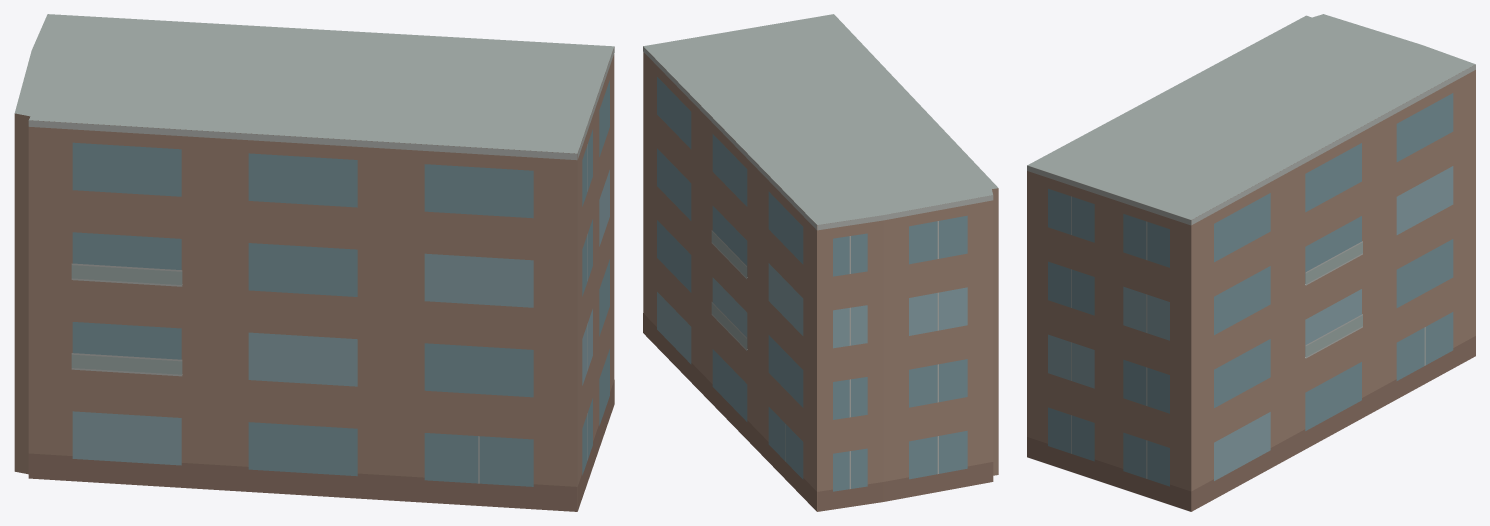
File: survey-upis-32628379.glb
3 views of the same model, side by side, from view 1: azimuth 30°, elevation 25°; view 2: azimuth 150°, elevation 25°; view 3: azimuth 270°, elevation 25° (orthographic). The views are drawn at different scales.
Parts seen in each view (by area): view 1: survey-upis-32628379.tmp; view 2: survey-upis-32628379.tmp; view 3: survey-upis-32628379.tmp.
Boxes of the visible parts, bbox=[...] form: survey-upis-32628379.tmp: bbox=[14, 14, 614, 511]; survey-upis-32628379.tmp: bbox=[643, 14, 998, 511]; survey-upis-32628379.tmp: bbox=[1027, 14, 1475, 511].
Size of the model in its own units: 20 by 13.2 by 18.41.
